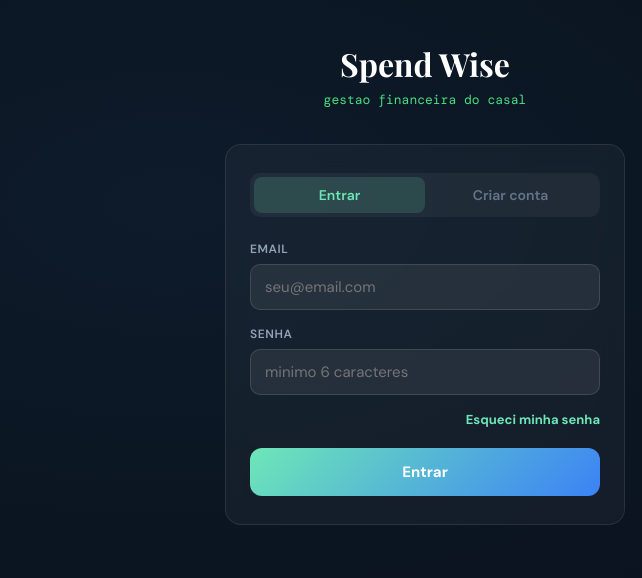
Test: AuthScreen › sends a password reset email from the login screen
Type "felipe@test.com" into the field with placeholder "seu@email.com".
click(425, 286); type("felipe@test.com")  # box [250,264,600,310]
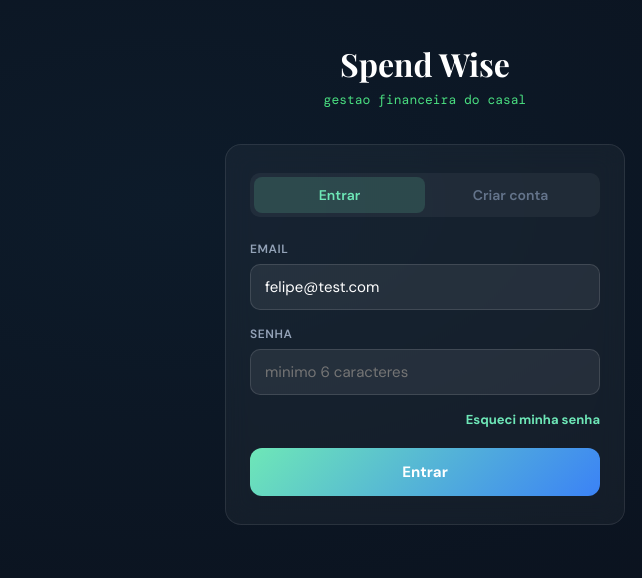
Click the button "Esqueci minha senha".
click(533, 419)  # box [466,410,600,428]
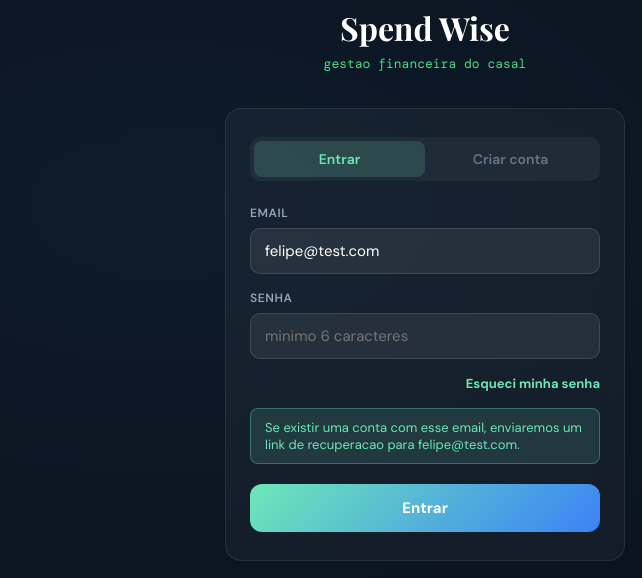
Expected: the text "Se existir uma conta" is shown, [265,418,582,452]
